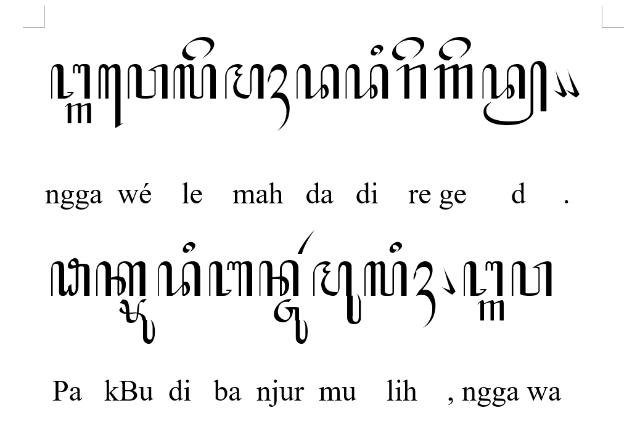-d: (482, 61, 546, 126)
Bu: (119, 300, 155, 344)
P: (50, 258, 90, 296)
_h1: (267, 64, 291, 132), (412, 260, 436, 328)
_ju: (274, 298, 308, 344)
_r1: (298, 230, 314, 254)
b: (209, 260, 253, 296)
d: (157, 260, 201, 298), (345, 63, 389, 100), (296, 64, 340, 99)
e: (438, 36, 472, 61), (392, 36, 424, 62), (182, 36, 214, 61)
e1: (98, 64, 124, 130)
g: (433, 63, 473, 99), (64, 102, 92, 124), (478, 299, 504, 321)
i: (371, 44, 384, 56), (390, 241, 402, 253), (182, 242, 195, 252)
k: (96, 260, 146, 296)
kom: (565, 68, 579, 98), (441, 266, 455, 294), (554, 70, 566, 98)
l: (173, 63, 217, 99), (364, 261, 406, 297)
m: (223, 63, 264, 99)
mu: (313, 261, 362, 325)
n: (258, 260, 300, 296)
nga: (50, 63, 91, 99), (463, 261, 503, 297)
r: (396, 64, 426, 99)
w: (511, 261, 552, 297), (128, 64, 168, 100)
